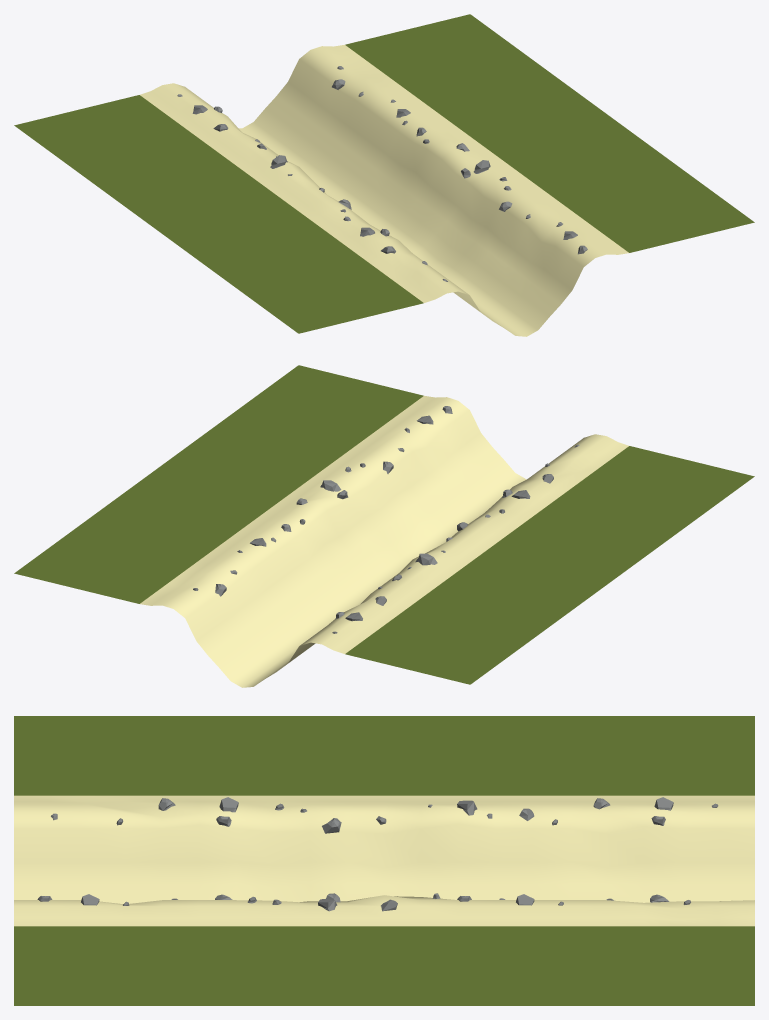
Rendered from canoeTerrainPresent_N.gltf.
The picture shows the model from 3 angles, top to bottom: view 1: azimuth 30°, elevation 25°; view 2: azimuth 150°, elevation 25°; view 3: azimuth 270°, elevation 25°; orthographic projection. The views are drawn at different scales.
Parts seen in each view (by area): view 1: canoeTerrainPresent; view 2: canoeTerrainPresent; view 3: canoeTerrainPresent.
Boxes of the visible parts, left/top/right/bottom form: canoeTerrainPresent: left=14, top=14, right=754, bottom=336; canoeTerrainPresent: left=14, top=365, right=754, bottom=687; canoeTerrainPresent: left=14, top=716, right=754, bottom=1005.
Size of the model in its own units: 157 by 23.82 by 170.
